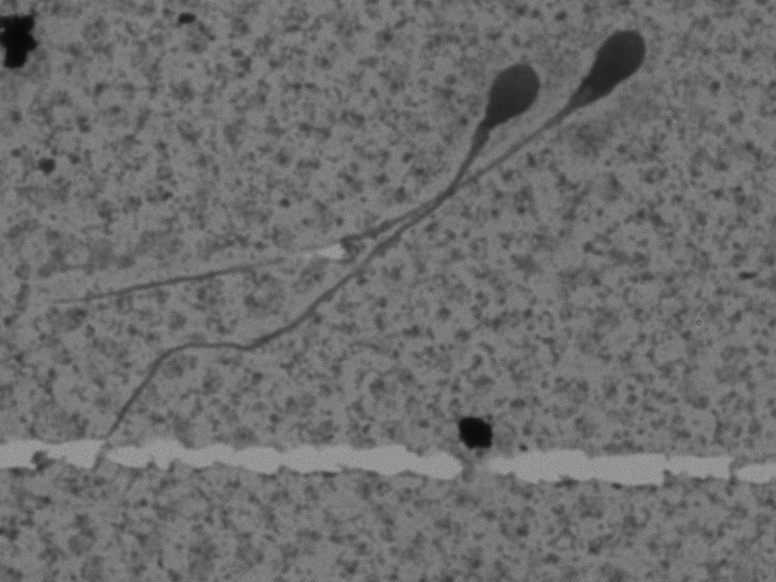Abnormal: (93, 38, 561, 442), (35, 20, 660, 312)
